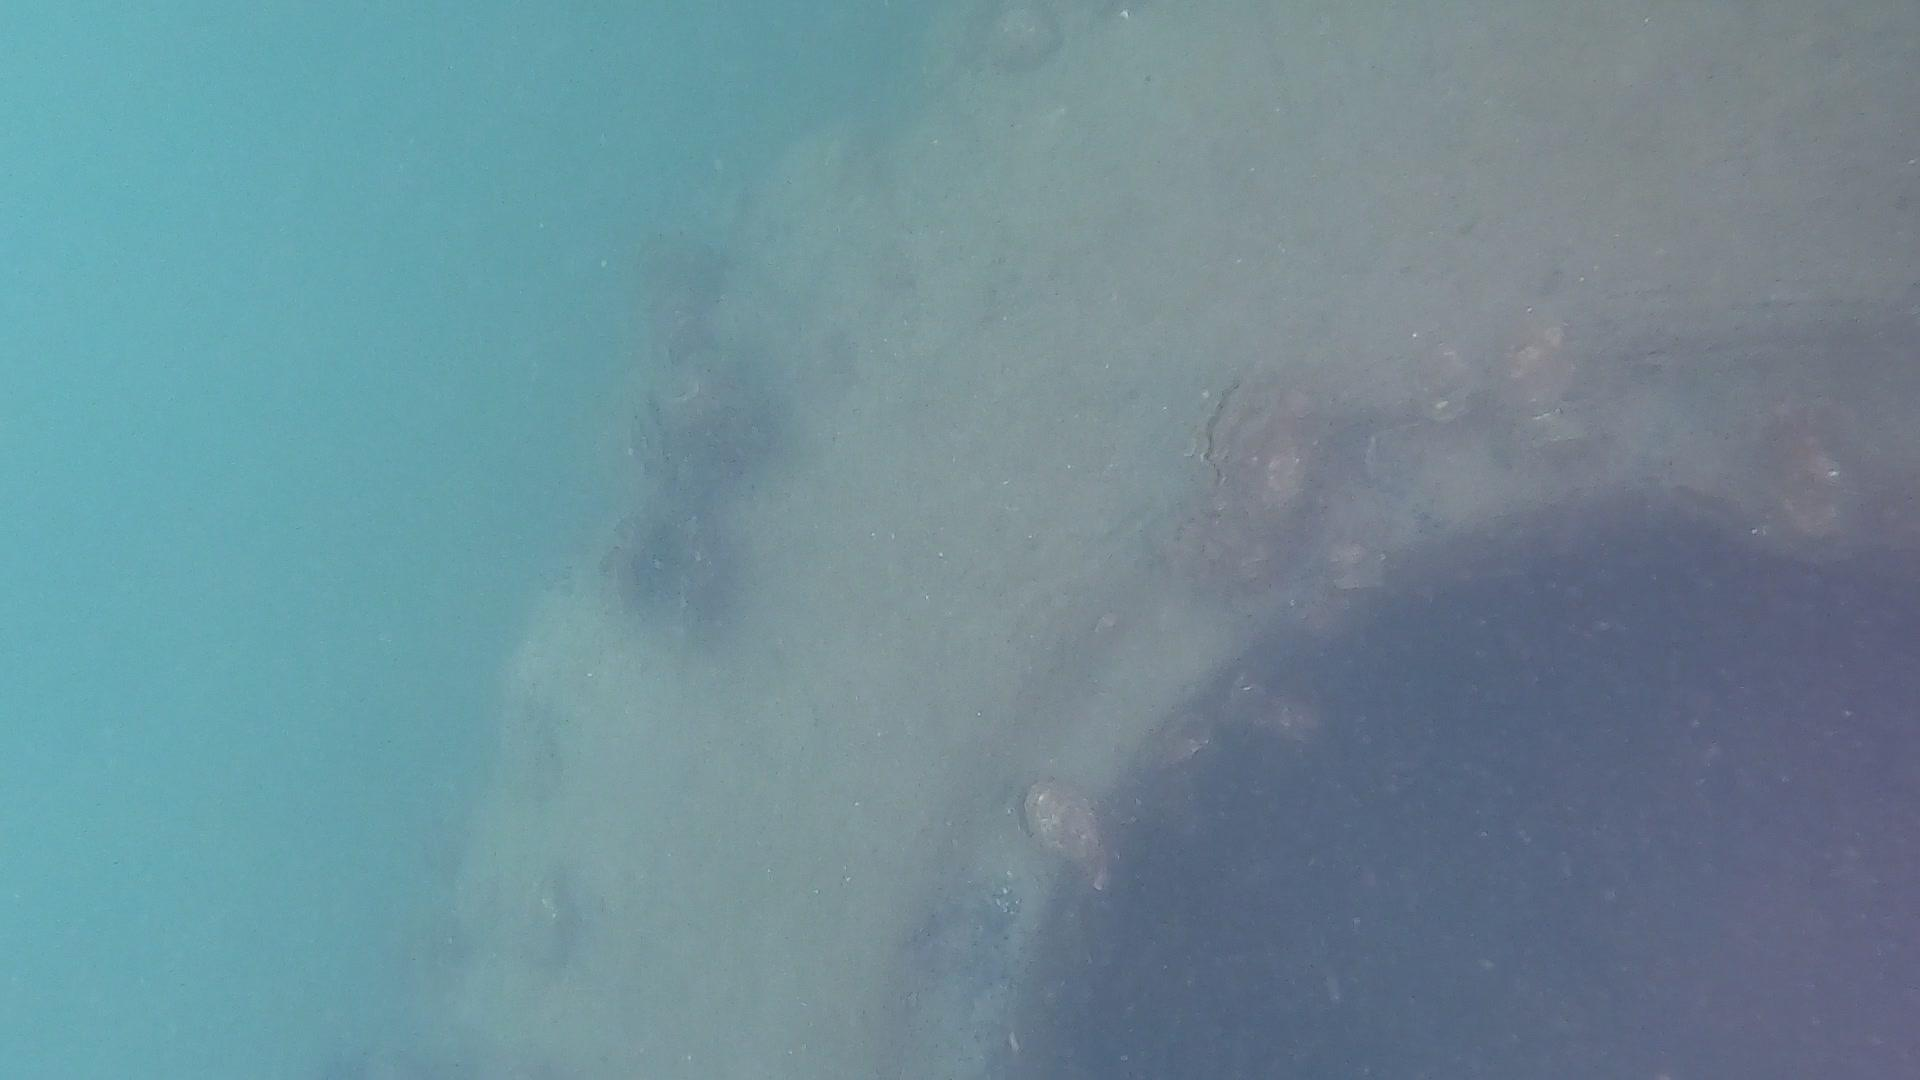tire: (414, 0, 1920, 1080)
